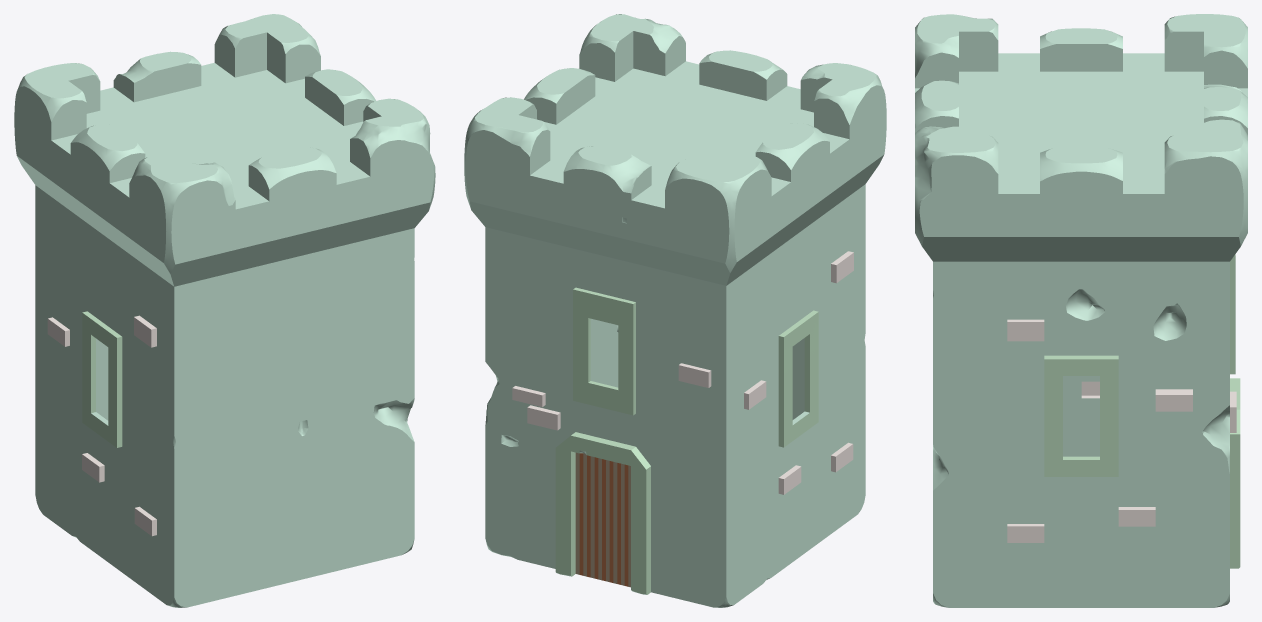
File: torreDef.fbx
3 renders of one model, left to right at view 1: azimuth 30°, elevation 25°; view 2: azimuth 150°, elevation 25°; view 3: azimuth 270°, elevation 25°, orthographic. The views are drawn at different scales.
Parts seen in each view (by area): view 1: Cube_dmg; view 2: Cube_dmg; view 3: Cube_dmg.
Part boxes in pixels (x1,y1,x2,y2): Cube_dmg: (14,14,435,607); Cube_dmg: (464,14,886,607); Cube_dmg: (915,14,1247,607).
Bounding box in the file's own units: 224 × 343 × 224.
